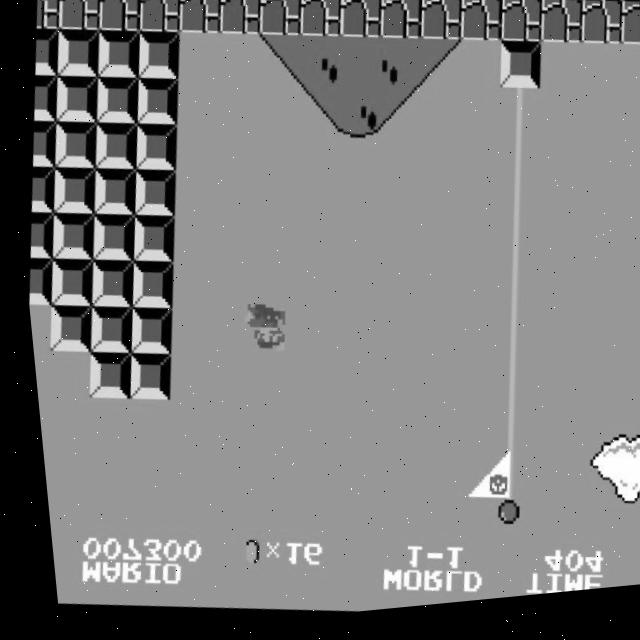11- little_mario: (230, 304, 283, 362)
17- undestructible_block: (495, 1, 545, 56), (455, 0, 505, 54), (535, 3, 585, 57), (575, 5, 625, 59), (415, 0, 465, 52), (375, 0, 424, 50), (335, 0, 385, 48), (294, 0, 344, 46), (254, 0, 304, 44), (215, 0, 264, 42), (174, 0, 224, 41), (134, 0, 184, 39), (94, 0, 143, 37), (55, 0, 104, 35), (615, 8, 640, 61), (33, 0, 63, 31), (579, 0, 624, 14), (539, 0, 584, 12), (499, 0, 544, 10), (459, 0, 504, 8), (619, 0, 640, 15), (419, 0, 464, 6), (379, 0, 424, 4), (338, 0, 384, 2), (299, 0, 344, 0)
7- goal_pole: (482, 276, 532, 331), (486, 184, 536, 239), (471, 505, 521, 559), (478, 368, 528, 422), (480, 322, 530, 376), (474, 459, 523, 514), (484, 231, 534, 284), (476, 414, 525, 468), (491, 93, 540, 147), (489, 140, 538, 193)
9- hard_block: (39, 301, 89, 356), (41, 255, 91, 310), (45, 164, 95, 219), (50, 72, 100, 127), (90, 74, 140, 129), (121, 259, 171, 314), (130, 76, 180, 131), (132, 30, 182, 85), (43, 210, 93, 264), (52, 27, 102, 81), (79, 303, 129, 357), (84, 212, 134, 266), (86, 166, 136, 220), (92, 29, 142, 83), (117, 351, 167, 405), (119, 305, 169, 359), (82, 257, 131, 312), (493, 47, 542, 102), (48, 119, 98, 172), (77, 350, 127, 403), (88, 121, 138, 174), (128, 123, 178, 176), (124, 214, 173, 268), (126, 168, 175, 222), (30, 27, 61, 77), (20, 256, 50, 306), (24, 165, 54, 215), (28, 73, 58, 123), (22, 211, 52, 260), (26, 120, 56, 169)
